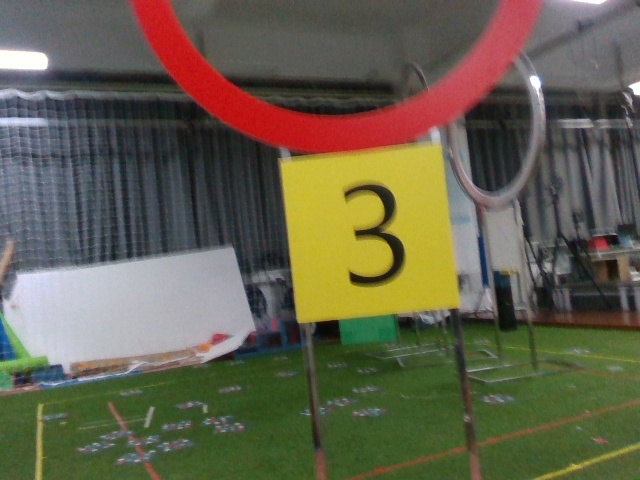target: (286, 150, 457, 323)
